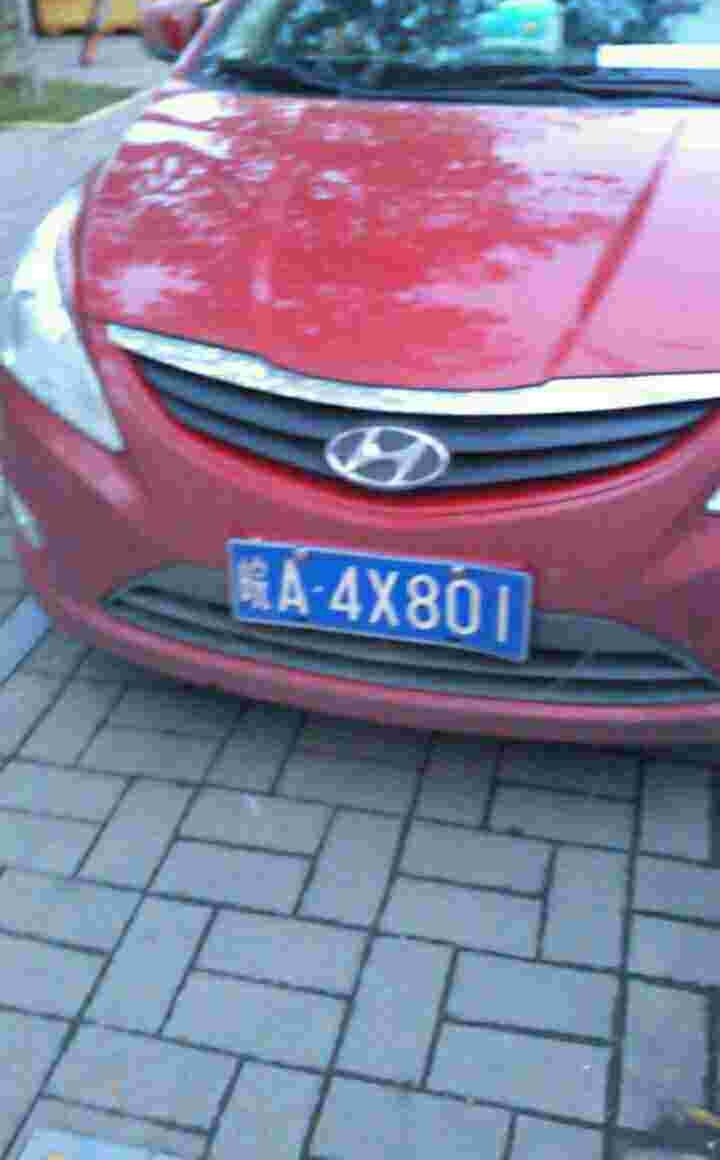license_plate: (228, 545, 528, 655)
